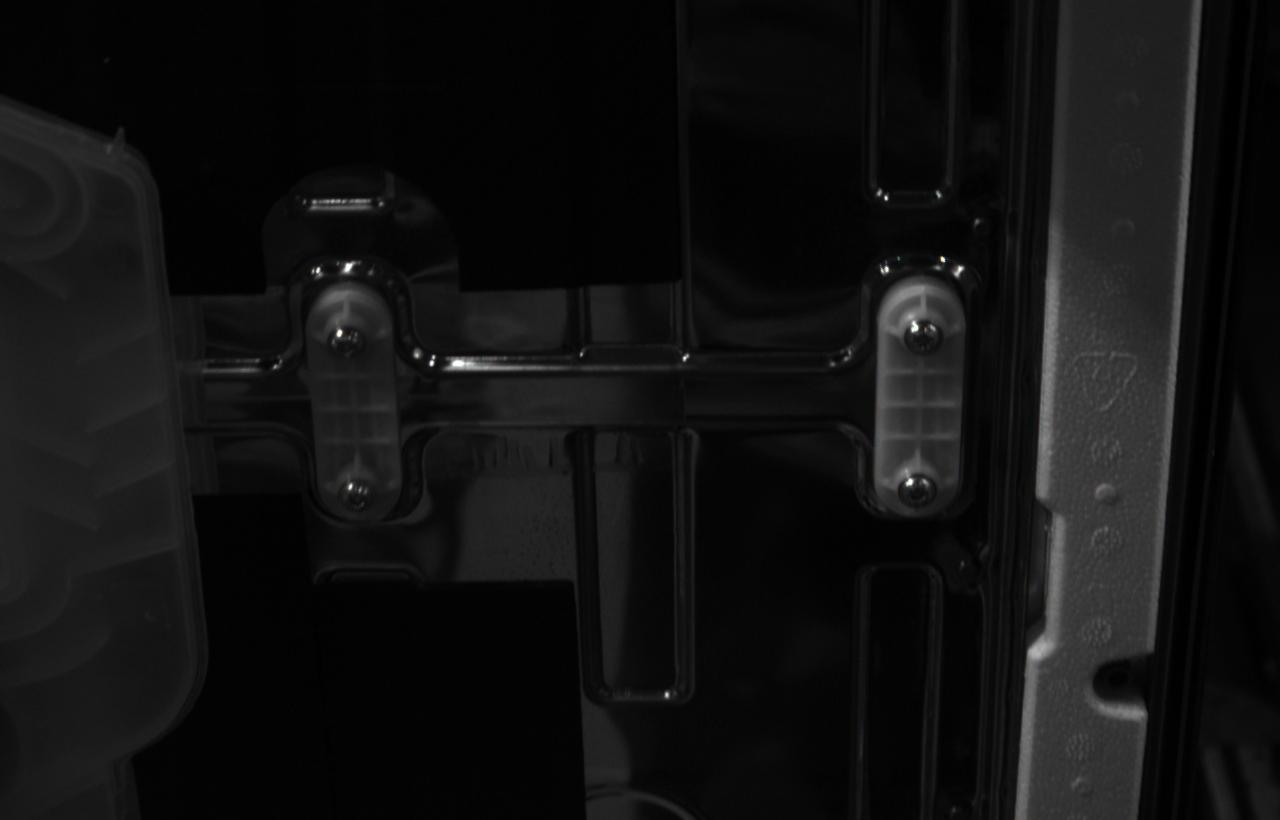vida-ok: (897, 473, 938, 509), (903, 320, 943, 356), (327, 325, 365, 360), (338, 479, 375, 513)
